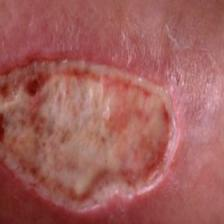wound-ulser: (0, 43, 193, 224)
